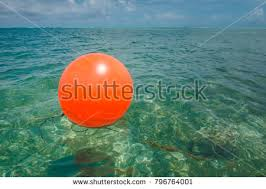buoy: (58, 53, 134, 128)
